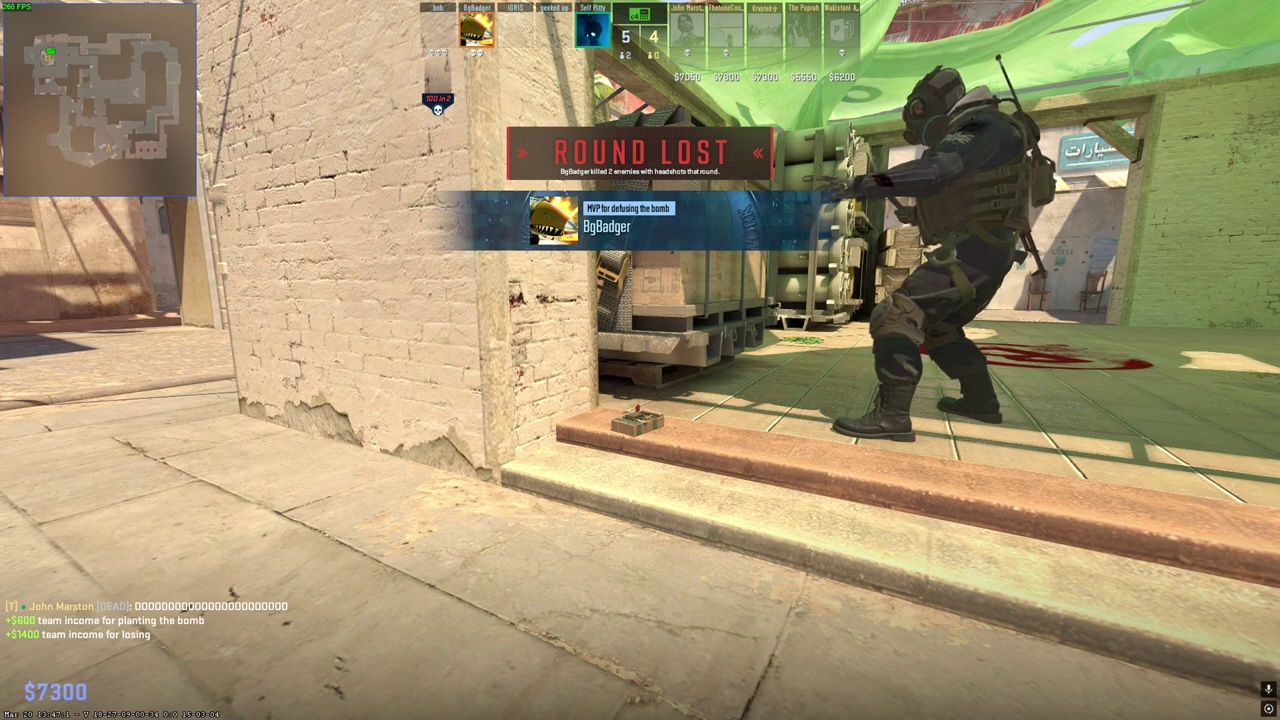CT: (842, 65, 1039, 443)
